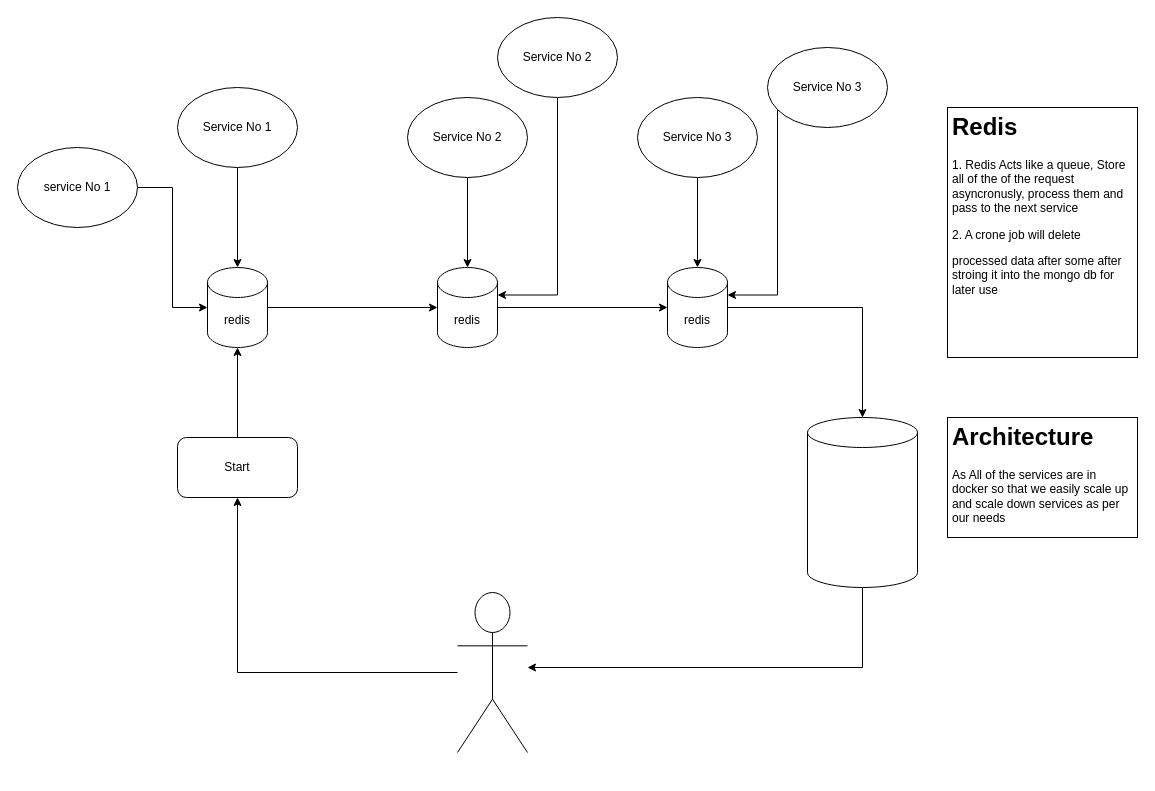
Some shapes in this 1155 by 791 pixel diagram are drawn without their labels. The shapes that lost their labels are listed below. From the top down, each one's centre as x and y in pixels, then its label:
(x=862, y=502): Global Mongo
(x=492, y=672): Actor
